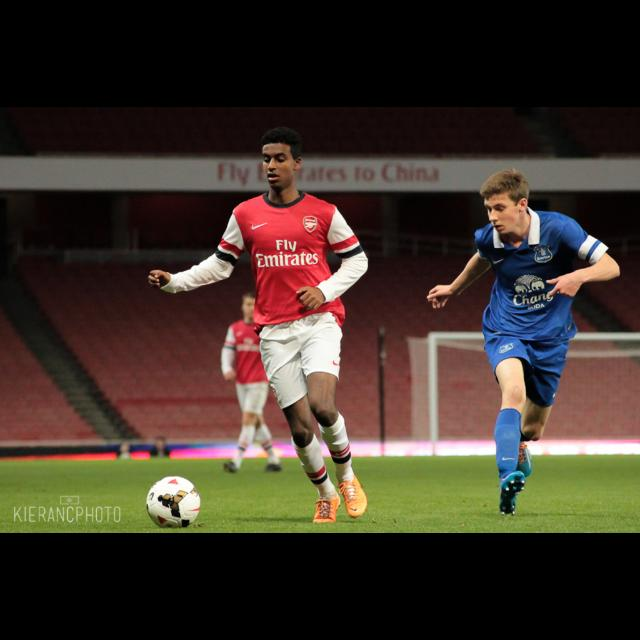Football: (145, 475, 201, 529)
